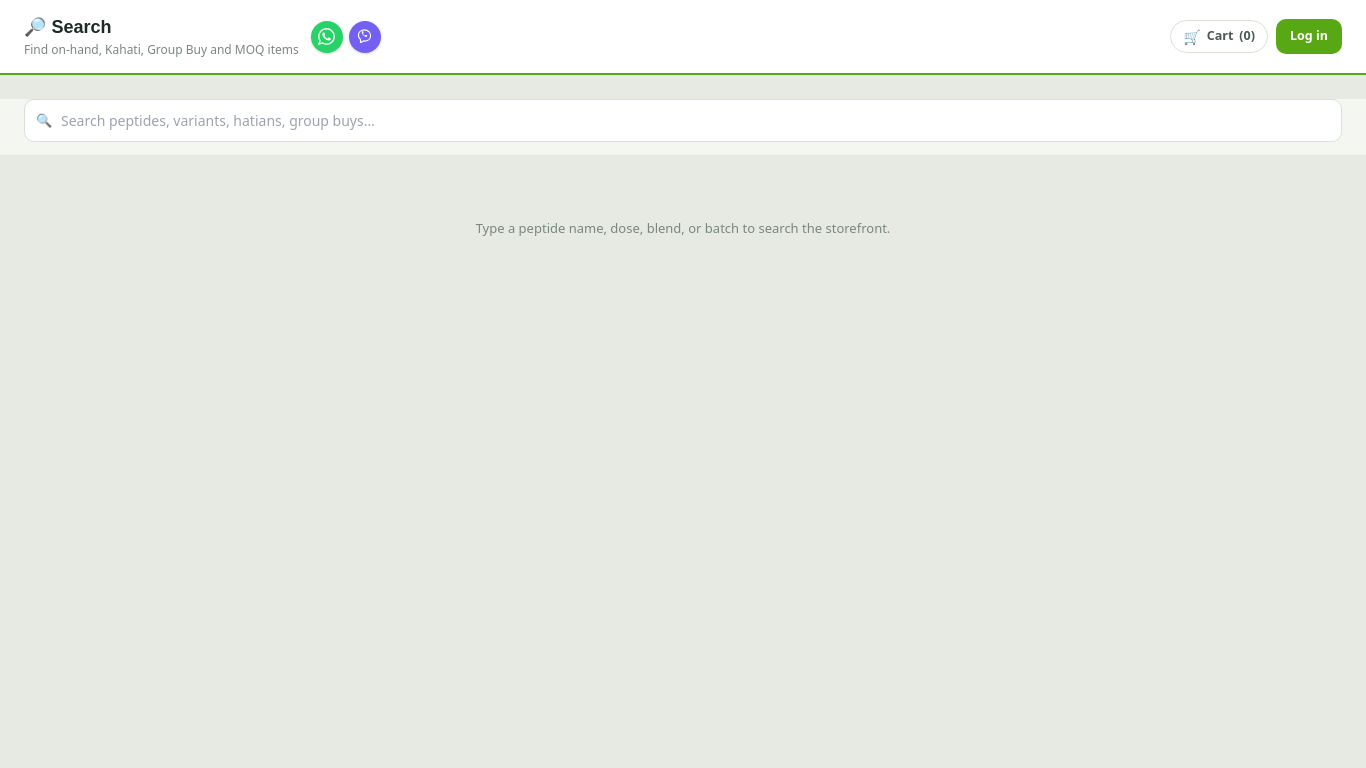
Scenario: SearchPage › searches across on-hand, Kahati, Group Buy and MOQ
The width and height of the screenshot is (1366, 768).
Type "reta" into the search field named "search all products" at (683, 120), box [24,99,1342,142]
(page scrolled)
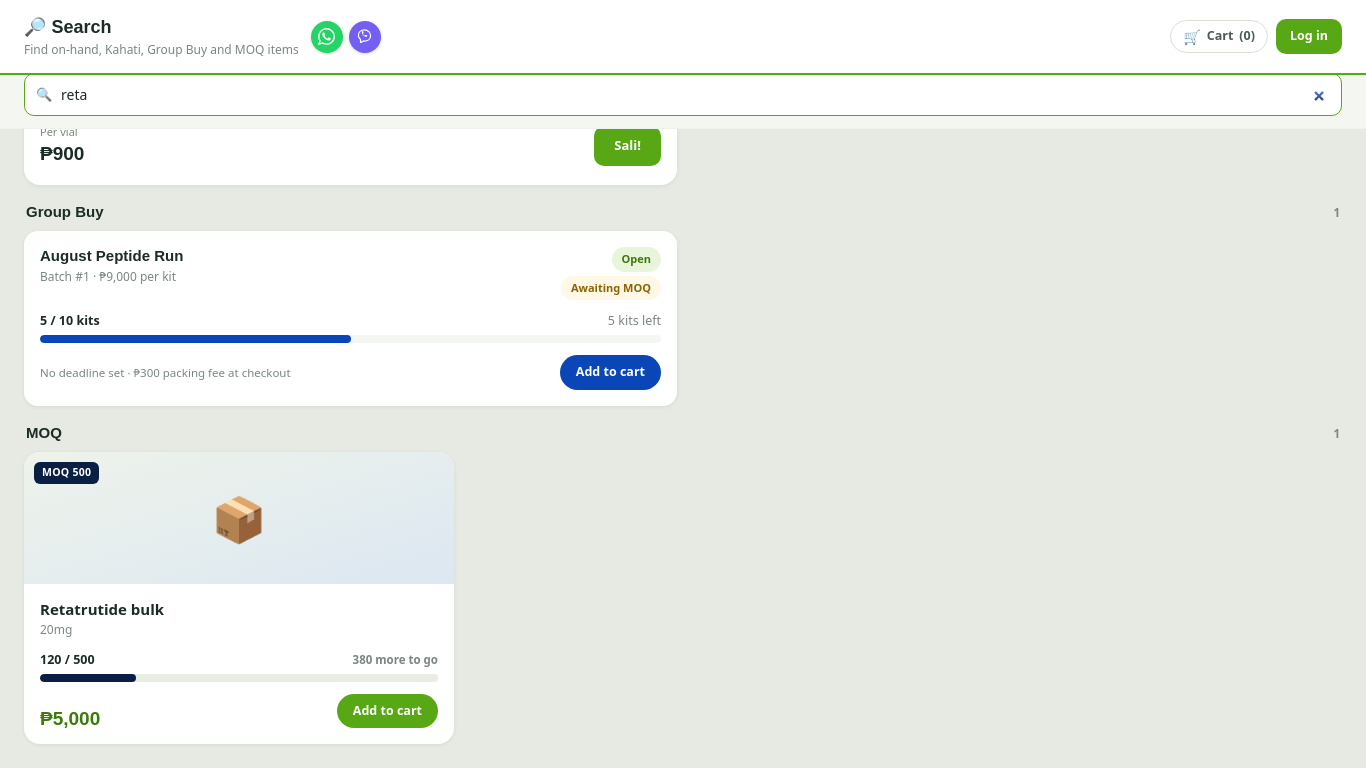
Result: the heading "Group Buy" is shown at [26,201,104,223]
Result: the heading "MOQ" is shown at [26,422,62,444]
Result: the heading "August Peptide Run" is shown at [40,247,183,266]
